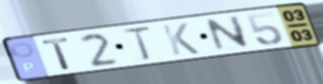2: (78, 32, 122, 69)
5: (244, 10, 285, 46)
K: (159, 22, 202, 57)
N: (204, 14, 253, 54)
T: (119, 25, 154, 63), (40, 36, 74, 71)
